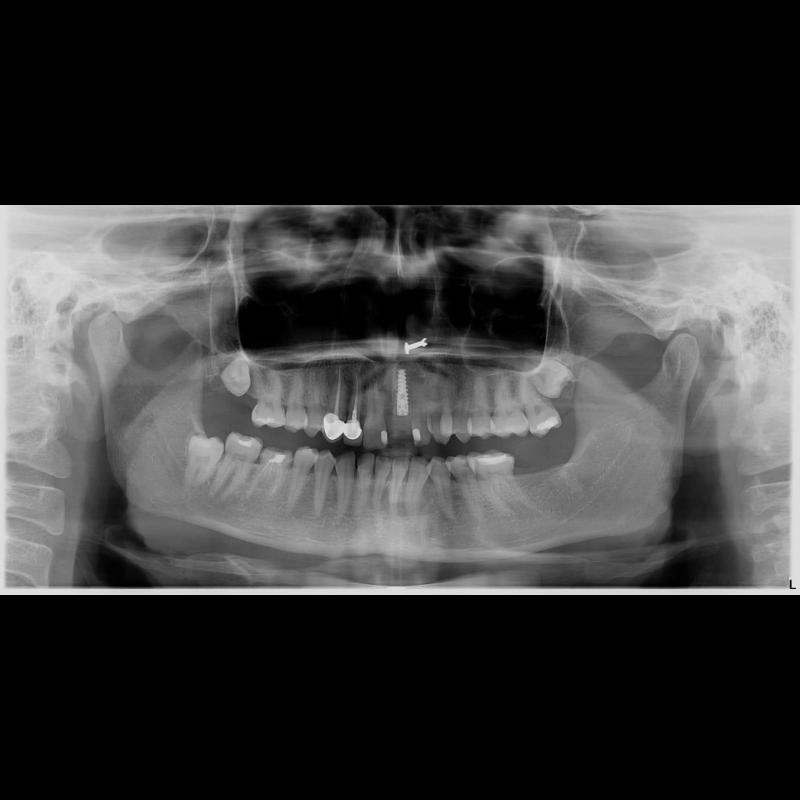ADIN: (395, 368, 411, 420)
